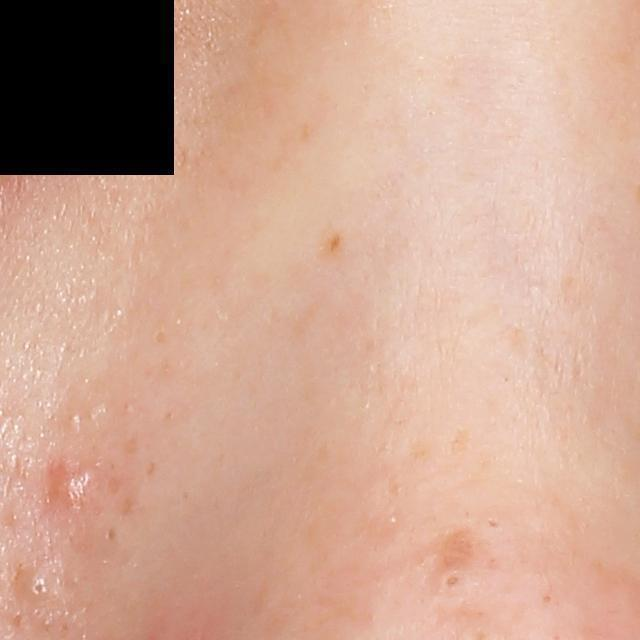comedo: (426, 563, 477, 608), (16, 565, 61, 612), (484, 515, 503, 534), (101, 524, 119, 543), (67, 411, 84, 429)
papule: (44, 457, 101, 518)
